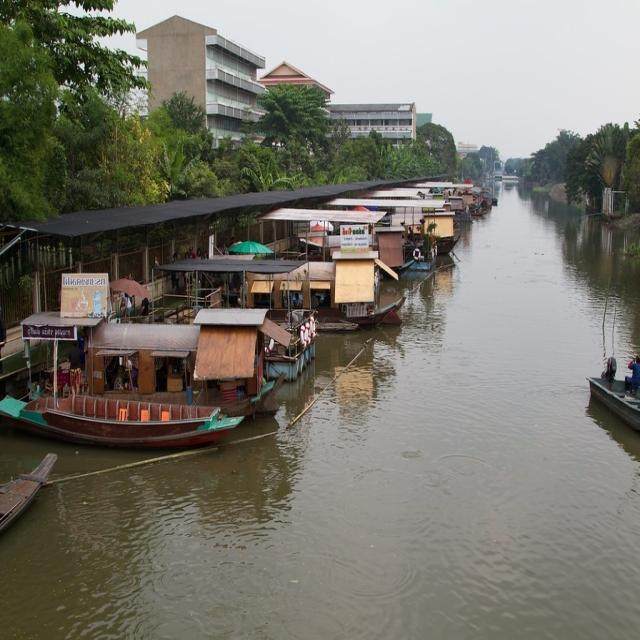boat: (42, 316, 274, 408), (0, 392, 238, 444)
